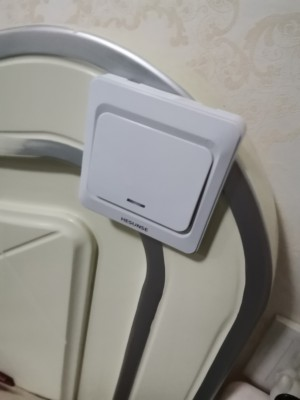switch: (88, 106, 203, 232)
